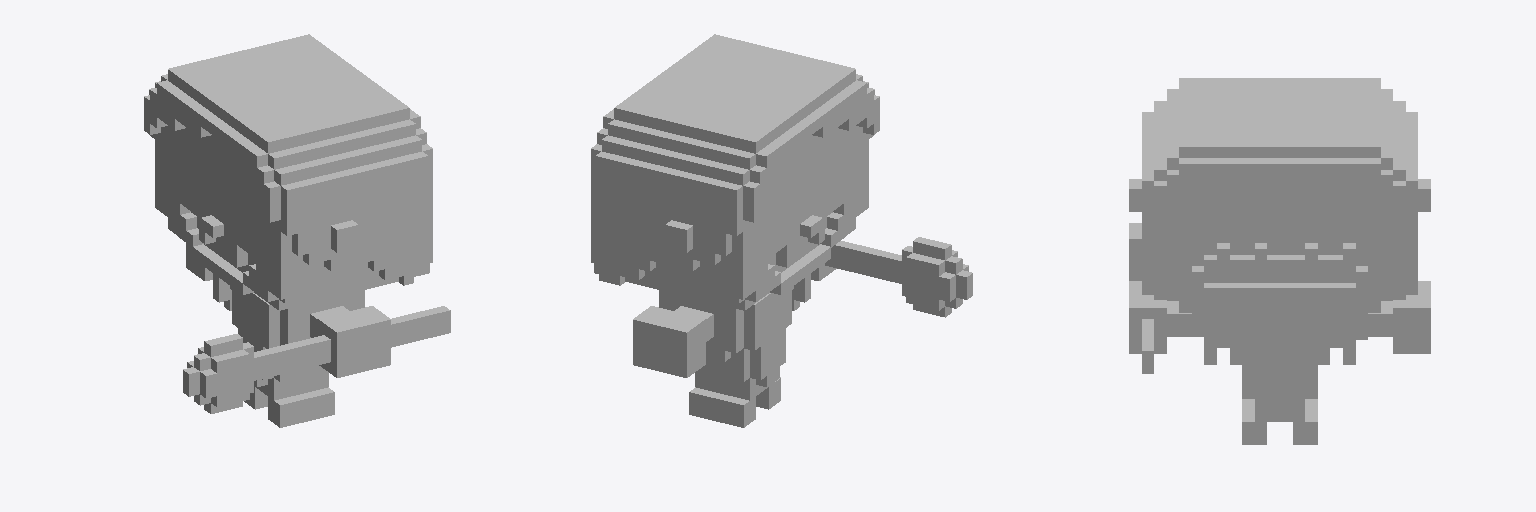
The model's file is vamp.obj.
3 renders of one model, left to right at view 1: azimuth 30°, elevation 25°; view 2: azimuth 150°, elevation 25°; view 3: azimuth 270°, elevation 25°, orthographic.
Parts seen in each view (by area): view 1: object 1; view 2: object 1; view 3: object 1.
Boxes of the visible parts, box(x1,y1,x2,y2) form: object 1: box(144, 34, 450, 427); object 1: box(591, 34, 972, 427); object 1: box(1129, 78, 1430, 444).
Bounding box in the file's own units: 2.5 × 2.8 × 2.4.